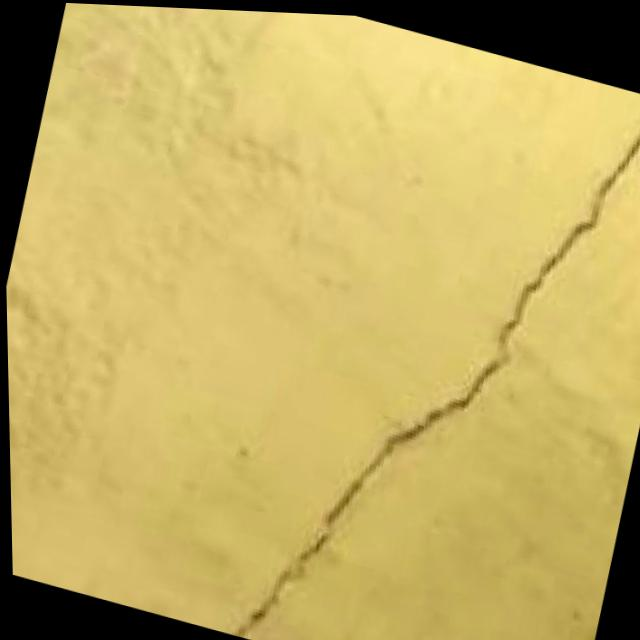Crack: (191, 7, 640, 640)
